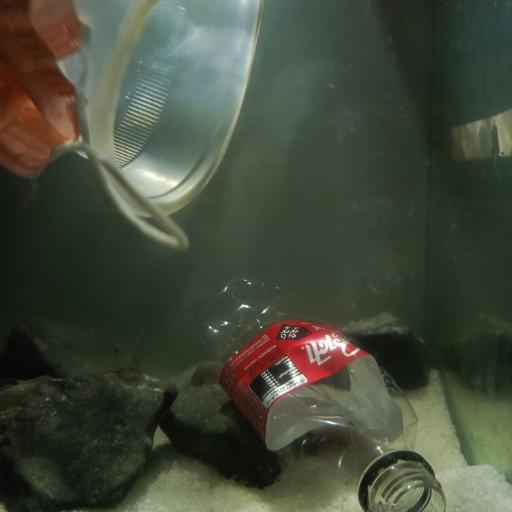mask: (2, 4, 195, 254)
plastic_bottle: (191, 274, 452, 512)
plastic_cup: (71, 0, 257, 215)
